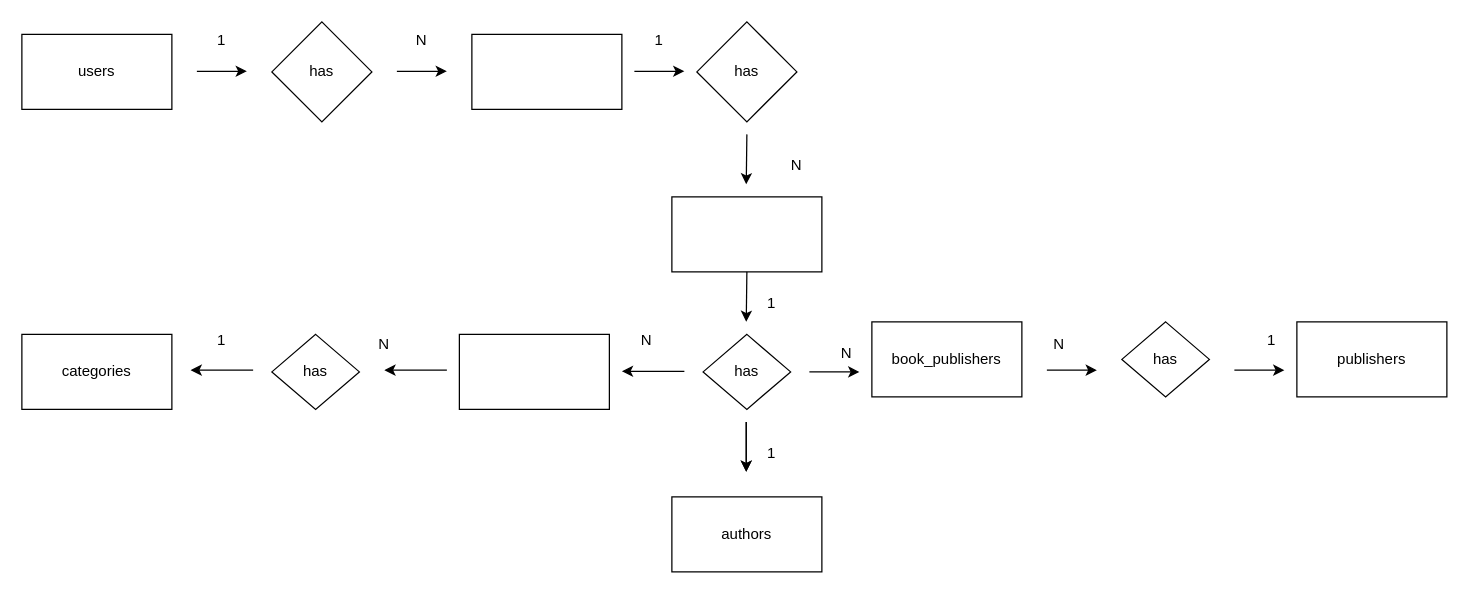
This 1469x594 diagram has some shape labels left out. Each missing label, with the centre of its shape:
book_categories: point 533,371
books: point 746,234
loans: point 546,71
